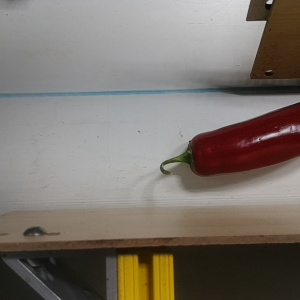Cut Point: (178, 131, 210, 179)
